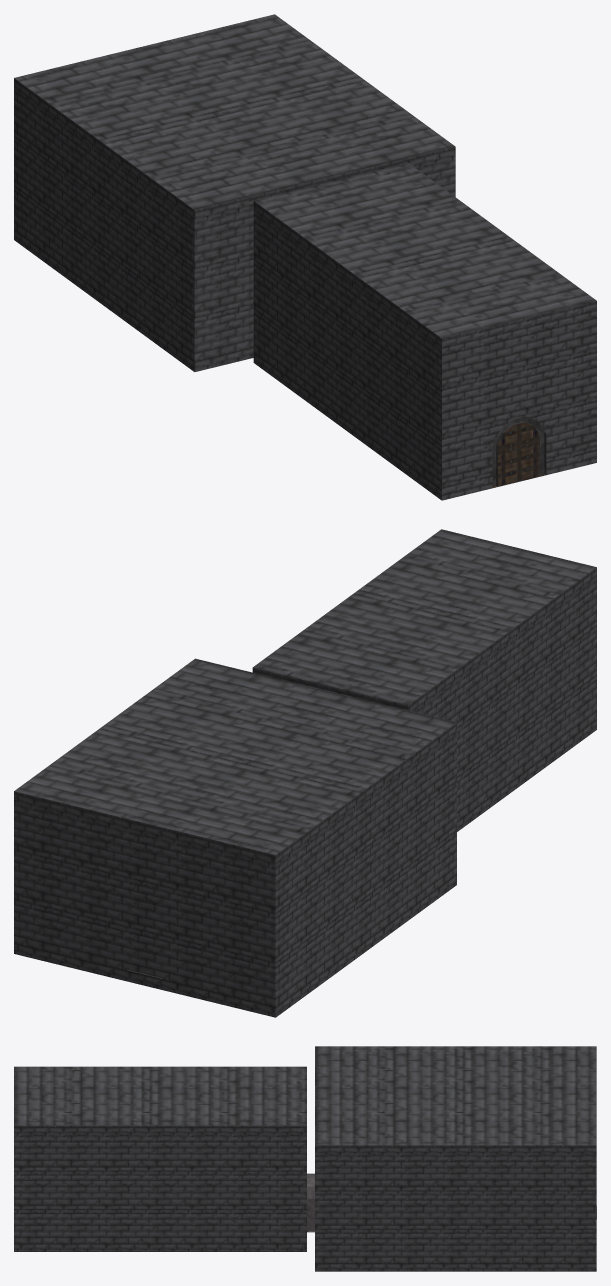
The model's file is Final Room.fbx.
3 renders of one model, top to bottom at view 1: azimuth 30°, elevation 25°; view 2: azimuth 150°, elevation 25°; view 3: azimuth 270°, elevation 25°, orthographic. The views are drawn at different scales.
Visible parts, largest first — view 1: Level, Entrance; view 2: Level; view 3: Level.
Boxes of the visible parts, <box> form: Level: <box>14,14,596,500</box>; Entrance: <box>442,301,596,500</box>; Level: <box>14,529,596,1017</box>; Level: <box>14,1046,596,1271</box>.
Bounding box in the file's own units: 384 × 228 × 955.
